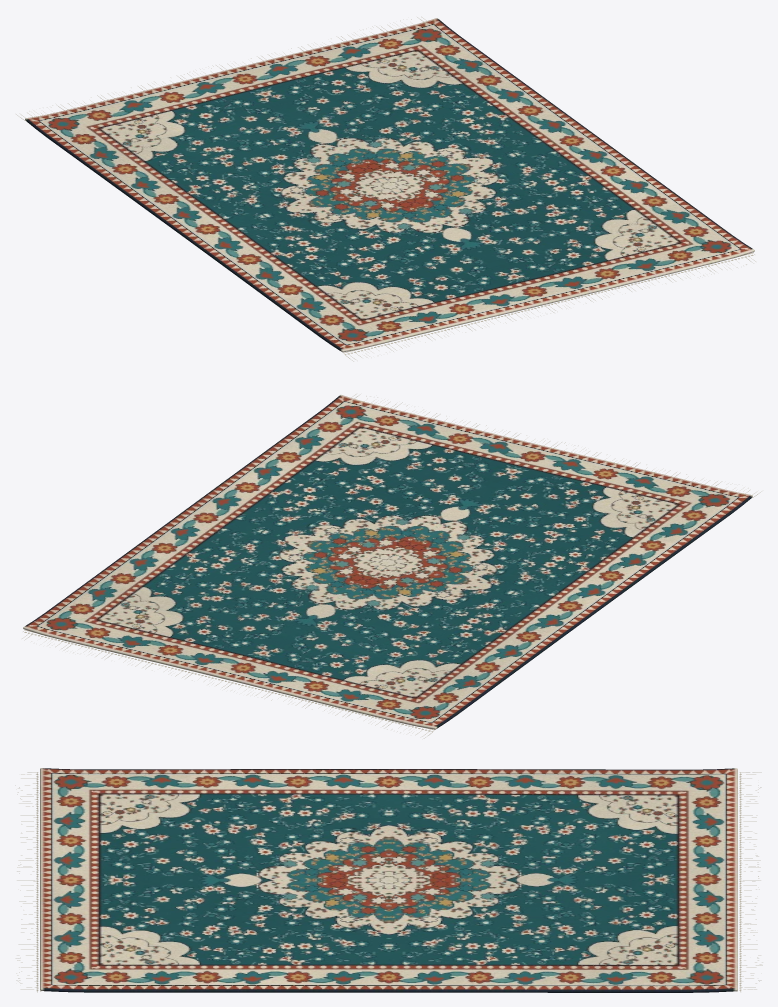
Rendered from rug-vinton-teal.lite.32560943.glb.
3 views of the same model, one above another, from view 1: azimuth 30°, elevation 25°; view 2: azimuth 150°, elevation 25°; view 3: azimuth 270°, elevation 25° (orthographic). The views are drawn at different scales.
Visible parts, largest first — view 1: rug-vinton-teal, rug-vinton-teal-fringe; view 2: rug-vinton-teal, rug-vinton-teal-fringe; view 3: rug-vinton-teal, rug-vinton-teal-fringe.
Part boxes in pixels (x1,y1,x2,y2): rug-vinton-teal: [25, 18, 754, 352]; rug-vinton-teal-fringe: [16, 16, 755, 361]; rug-vinton-teal: [23, 395, 752, 729]; rug-vinton-teal-fringe: [22, 394, 761, 738]; rug-vinton-teal: [40, 768, 737, 992]; rug-vinton-teal-fringe: [15, 772, 762, 992].
Bounding box in the file's own units: 1.65 × 0.0167 × 2.36.
2 materials, 2 textured.
